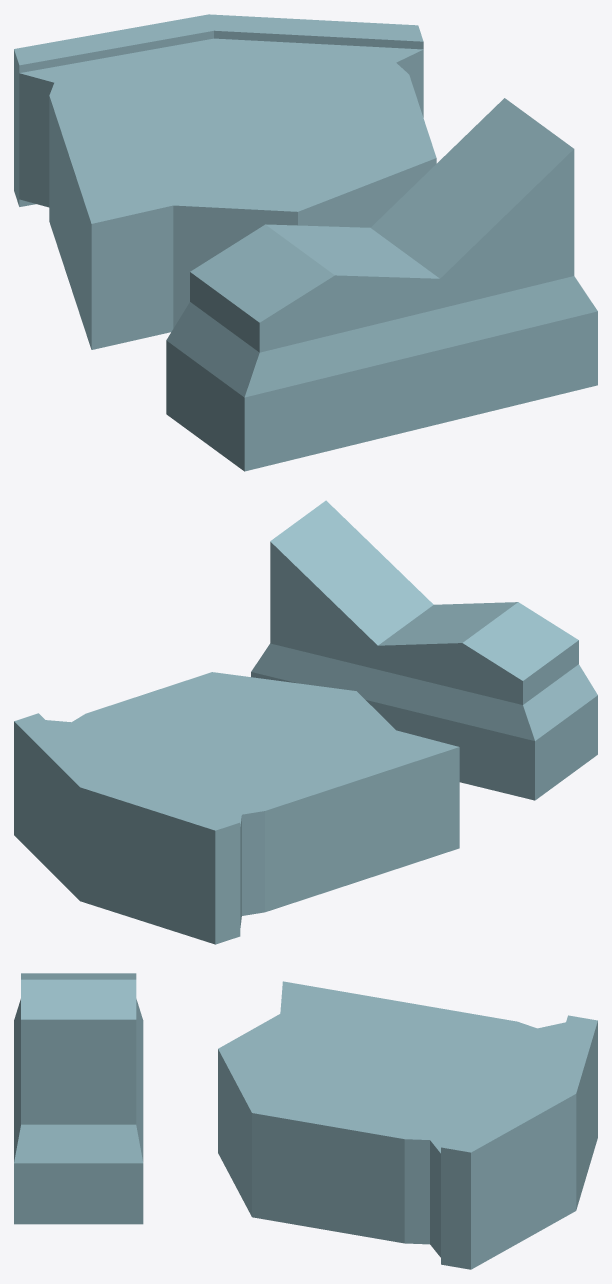
The model's file is gravestoneDebris.fbx.
3 renders of one model, top to bottom at view 1: azimuth 30°, elevation 25°; view 2: azimuth 150°, elevation 25°; view 3: azimuth 270°, elevation 25°, orthographic. The views are drawn at different scales.
Visible parts, largest first — view 1: gravestoneDebris; view 2: gravestoneDebris; view 3: gravestoneDebris.
Boxes of the visible parts, x1,y1,x2,y2 form: gravestoneDebris: (14, 14, 597, 471); gravestoneDebris: (14, 500, 597, 944); gravestoneDebris: (14, 973, 597, 1269).
Bounding box in the file's own units: 4.97 × 2.59 × 6.75.
